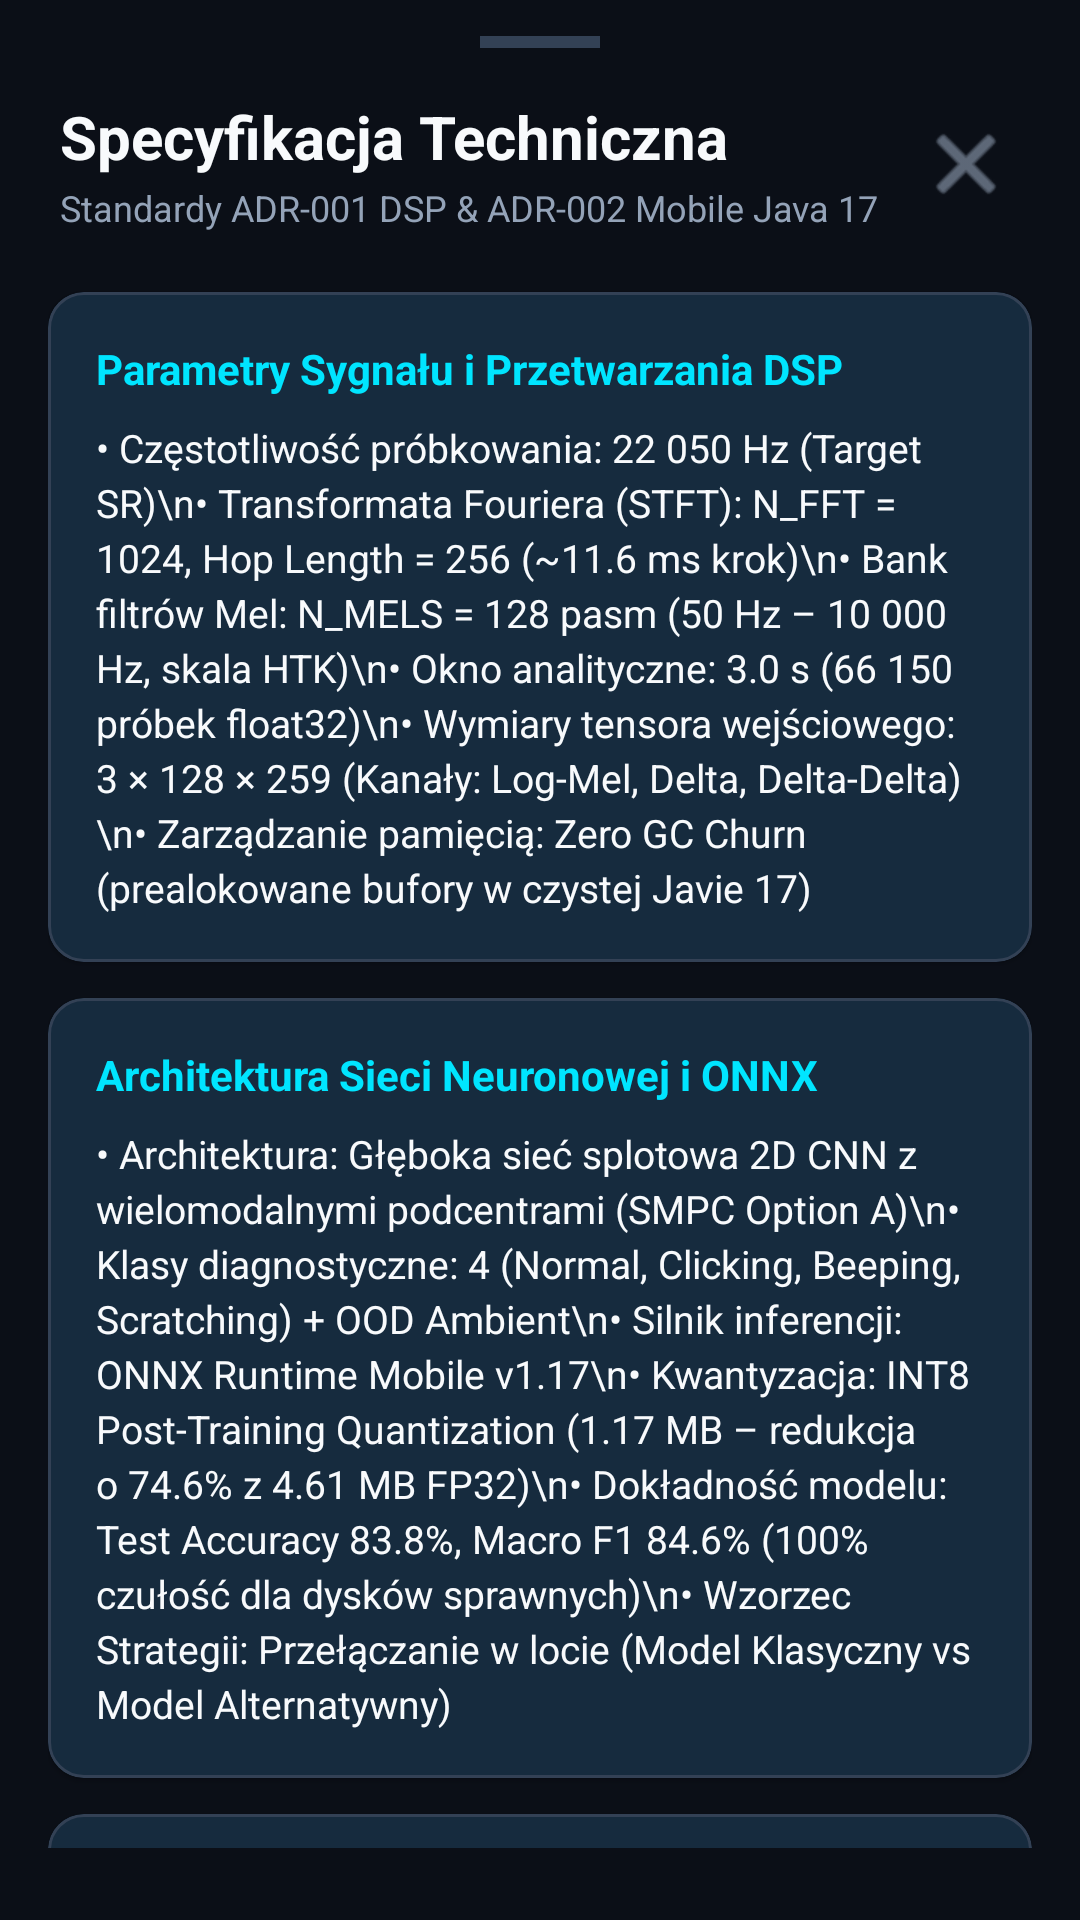

Screen size 1080px×1920px. Icon name, then its box in pixels as (x1, y1, x2, y2):
Zamknij specyfikację: (936, 134, 996, 194)
